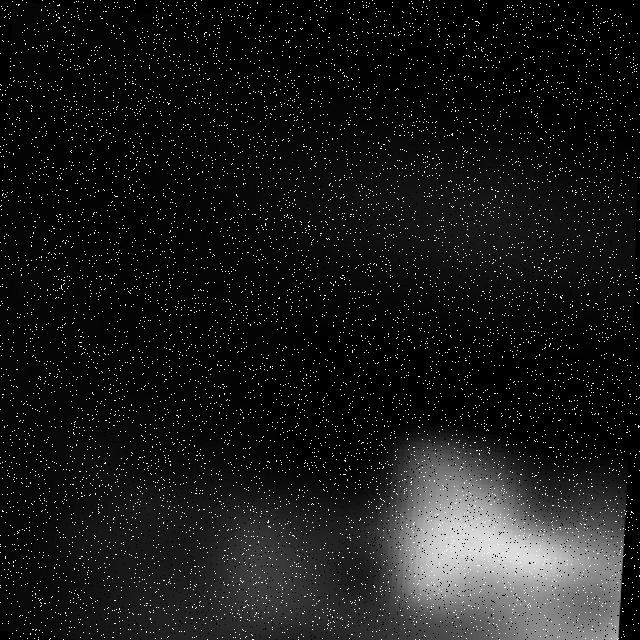person: (119, 421, 630, 640)
